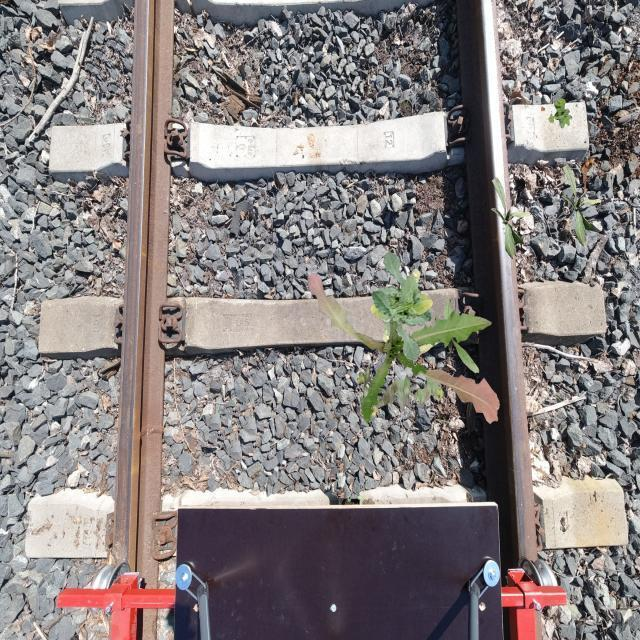Plant: (307, 273, 500, 425), (371, 268, 434, 362), (370, 251, 432, 344), (408, 299, 480, 374), (357, 366, 444, 418), (491, 177, 531, 260), (562, 164, 602, 246), (549, 98, 573, 128)
